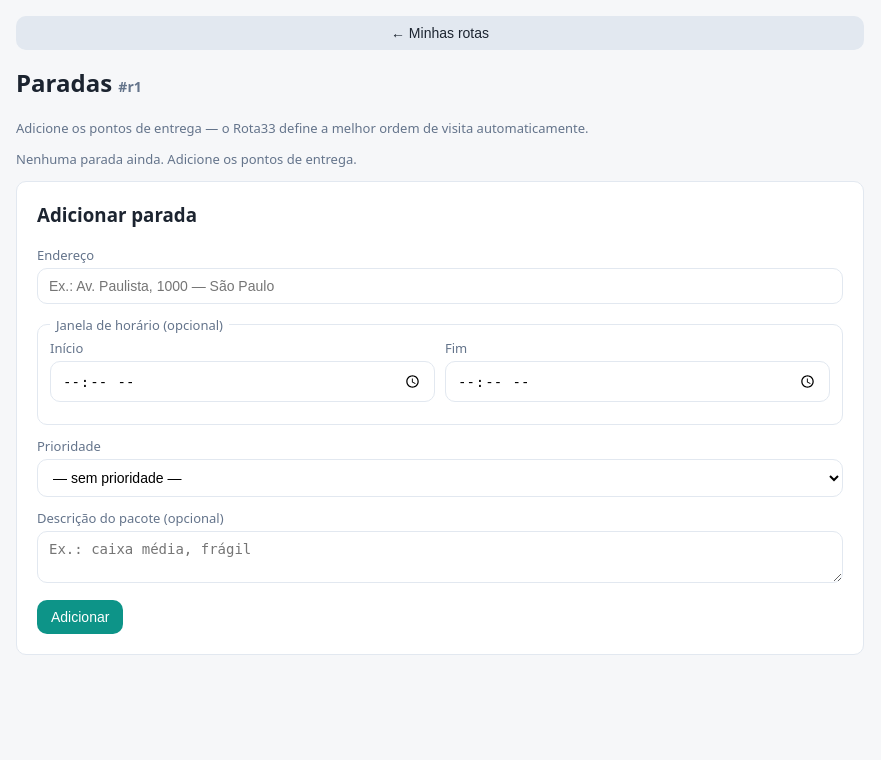
Test: RotaDetalhePage › adiciona parada e exibe na tabela
In the field labelled "Endereço": [440, 286] box [37,268,843,304], type "Av. Paulista, 1000"
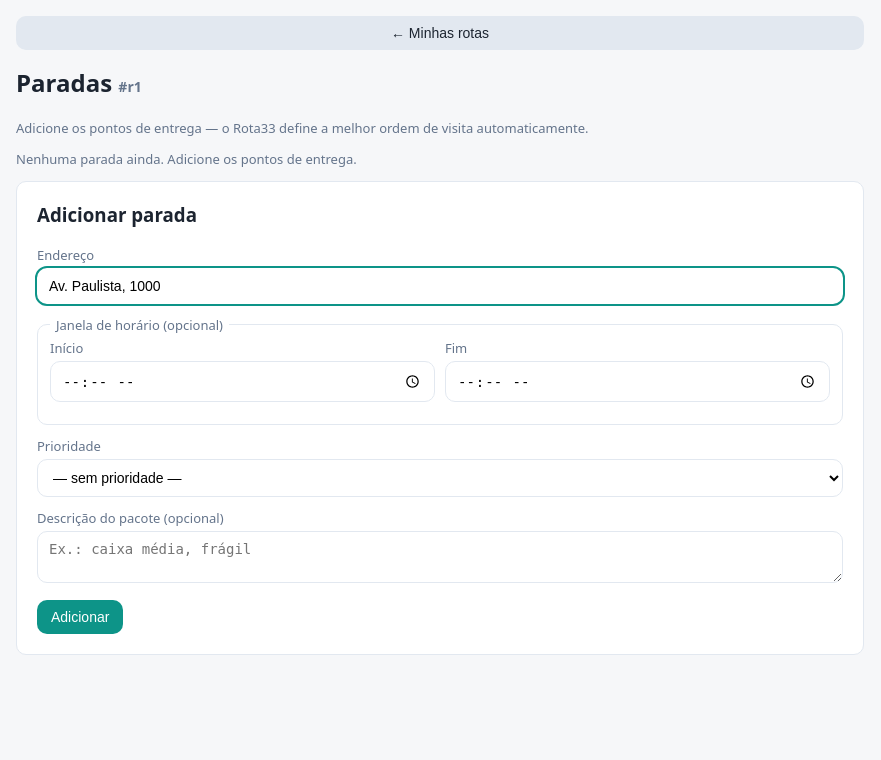
Click the button "Adicionar": [80, 617] box [37,600,123,634]
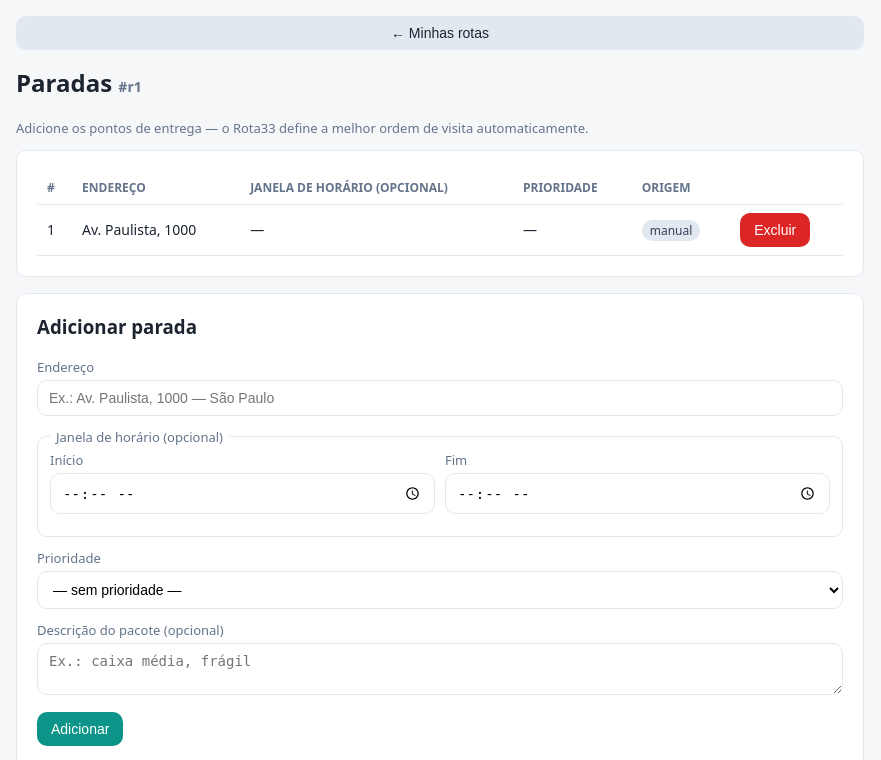
Expected: the text "Av. Paulista, 1000" is shown, [72,204,240,255]
